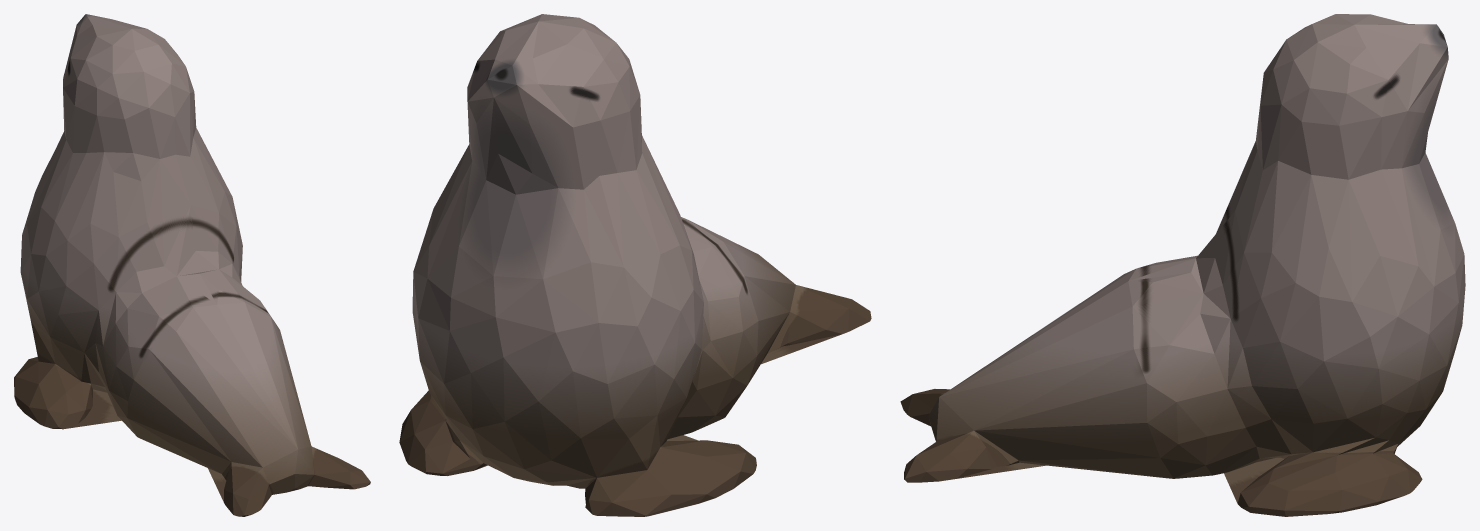
File: animal_sealion_male_blob.obj
3 renders of one model, left to right at view 1: azimuth 30°, elevation 25°; view 2: azimuth 150°, elevation 25°; view 3: azimuth 270°, elevation 25°, orthographic. The views are drawn at different scales.
Visible parts, largest first — view 1: animal_sealion_male_blob; view 2: animal_sealion_male_blob; view 3: animal_sealion_male_blob.
Part boxes in pixels (box(x1,y1,x2,y2)): animal_sealion_male_blob: box(14, 14, 370, 516); animal_sealion_male_blob: box(399, 14, 871, 516); animal_sealion_male_blob: box(900, 14, 1465, 516).
Bounding box in the file's own units: 0.8404 × 1.12 × 1.35.
